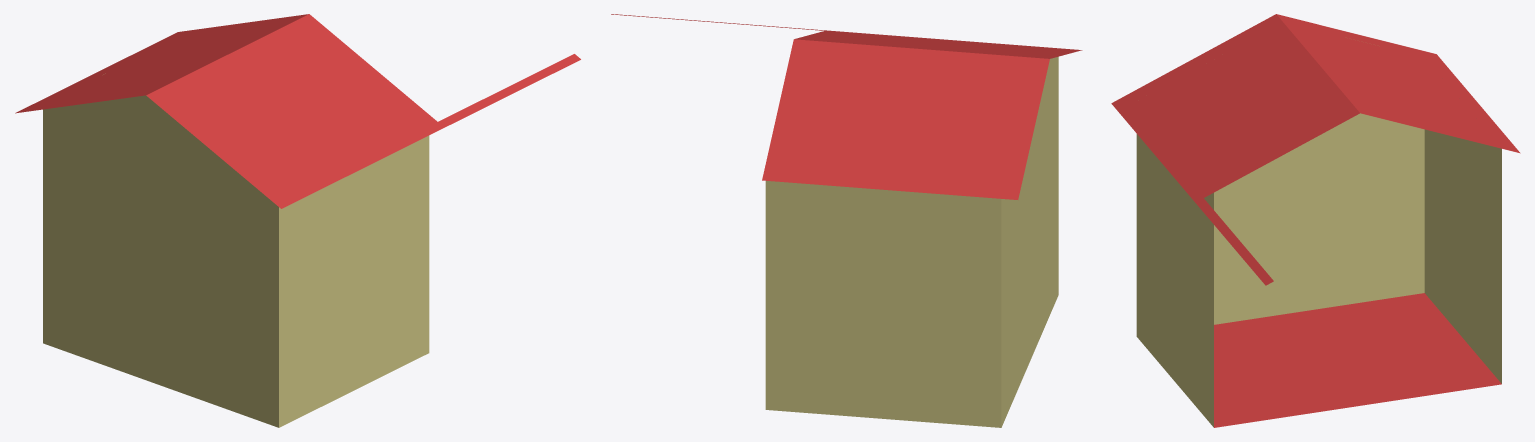
3 renders of one model, left to right at view 1: azimuth 30°, elevation 25°; view 2: azimuth 150°, elevation 25°; view 3: azimuth 270°, elevation 25°, orthographic. The views are drawn at different scales.
Bounding box in the file's own units: 13.77 × 10.29 × 8.11.
